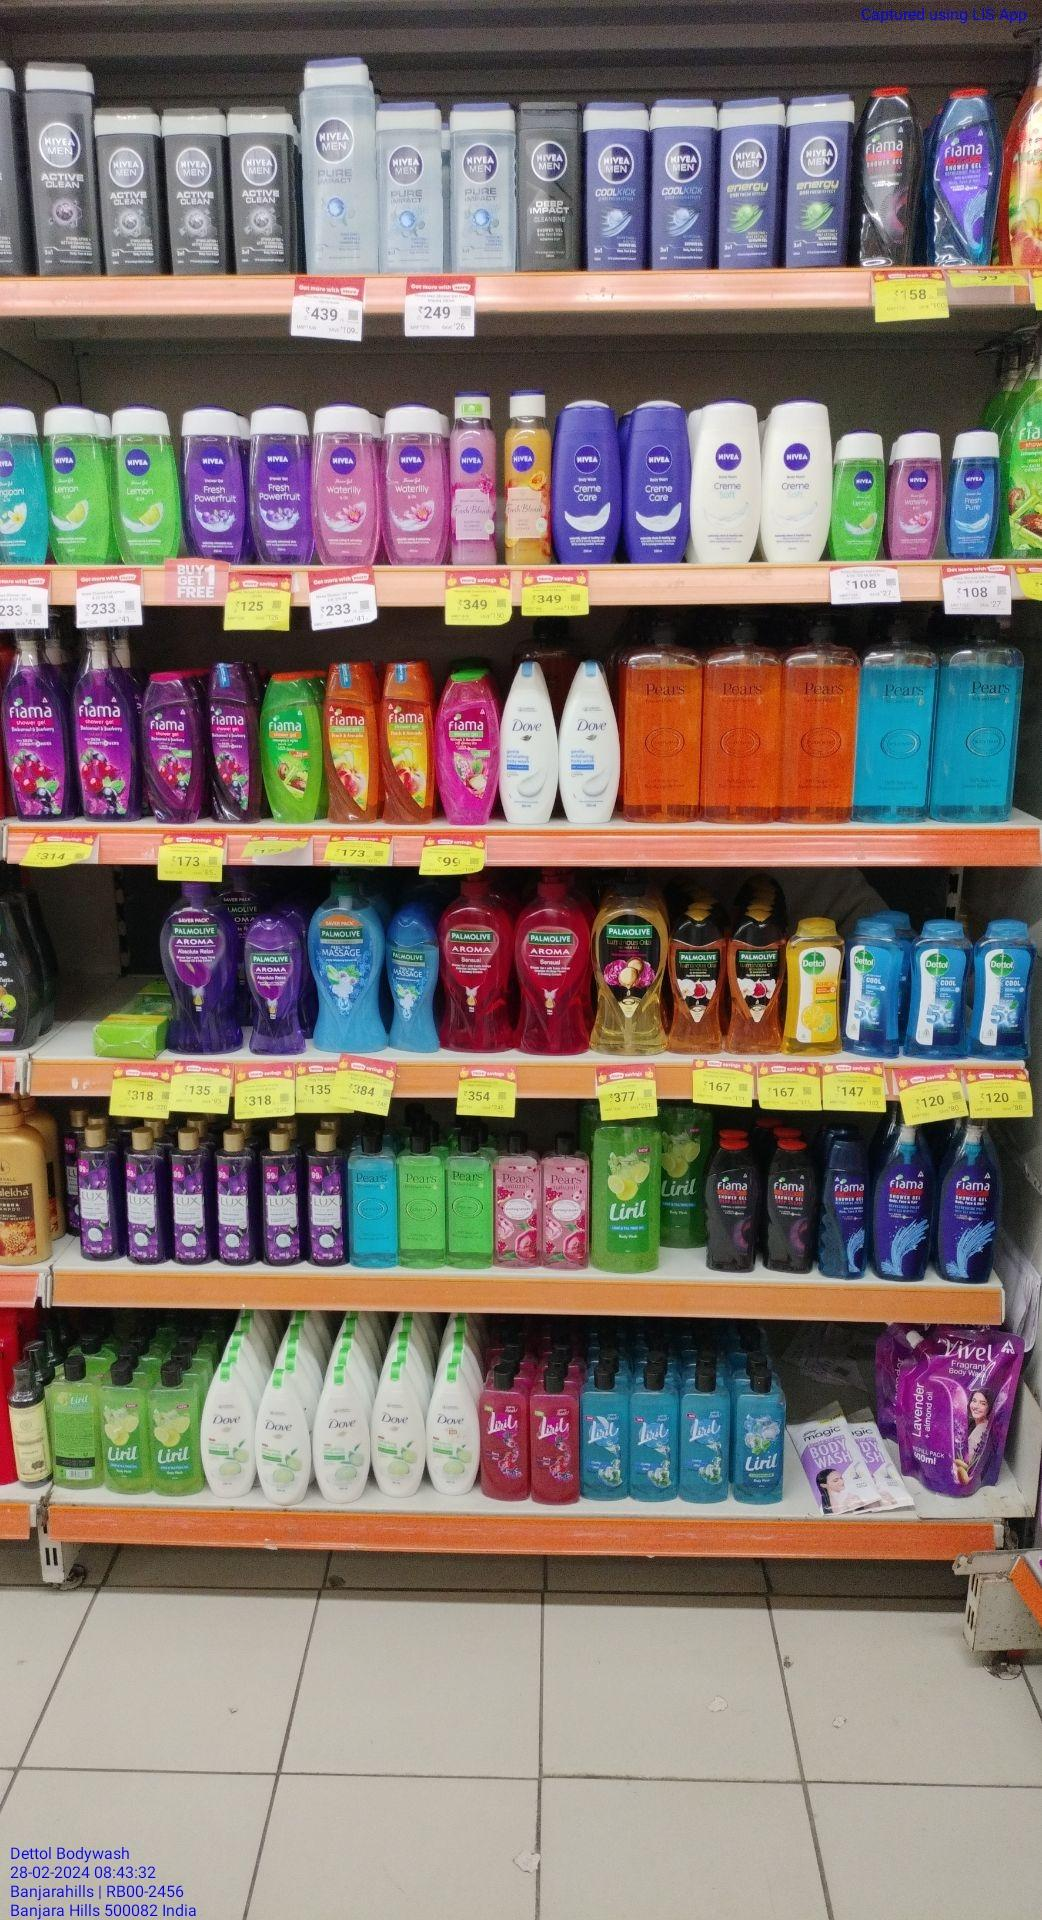Dettol_Bodywash_Cool: (975, 923, 1038, 1061), (911, 921, 966, 1063), (847, 920, 901, 1059)
Dettol_Bodywash_Refresh: (787, 912, 839, 1057)
Dove_Gentle_Exfoliating_Body_Wash_250ML: (499, 659, 556, 826), (565, 658, 617, 829)
Dove_Refreshing_Body_Wash_250ML: (312, 1377, 367, 1507), (371, 1368, 423, 1501), (257, 1377, 311, 1506), (203, 1366, 253, 1498), (430, 1370, 477, 1499)
Fiama_Shower_Gel_Lemongrass_and_Jojoba_250ML: (262, 673, 317, 827)
Fiama_Shower_Gel_Patchouli_and_Macadamia_250ML: (440, 669, 494, 825)
Fiama_Shower_Gel_Peach_and_Avocado_250ML: (325, 659, 379, 827), (382, 662, 435, 829)
Liril_Cooling_Mint_Body_Wash_250ML: (579, 1368, 628, 1504), (737, 1372, 785, 1506), (681, 1371, 728, 1506), (634, 1366, 676, 1502)
Liril_Lime_and_Tea_Tree_Oil_Body_Wash_250ML: (154, 1366, 200, 1498), (101, 1367, 149, 1494)
Lux_Black_Orchid_Scent_and_Juniper_Oil_Body_Wash_245ML: (171, 1130, 213, 1267), (77, 1126, 119, 1261), (260, 1129, 300, 1266), (123, 1129, 164, 1261), (305, 1130, 344, 1266), (216, 1133, 254, 1265)
Nivea_Creme_Care_Body_Wash_250ML: (557, 398, 621, 568), (626, 400, 687, 566)
Nivea_Creme_Soft_Body_Wash_250ML: (762, 395, 832, 569), (698, 391, 757, 567)
Nivea_Shower_Gel_Frangipani_and_Oil_250ML: (0, 399, 46, 569)
Nivea_Shower_Gel_Fresh_Powerfruit_250ML: (181, 400, 245, 566), (250, 404, 307, 559)
Nivea_Shower_Gel_Lemon_and_Oil_250ML: (112, 400, 177, 566), (49, 400, 110, 569)
Nivea_Shower_Gel_Waterlily_and_Oil_250ML: (312, 400, 380, 567), (385, 400, 448, 567)
Palmolive_Aroma_Moments_Feel_The_Massage_Shower_Gel_250ML: (386, 907, 440, 1054)
Palmolive_Aroma_Relax_250ML: (245, 918, 307, 1058)
Palmolive_Luminous_Oils_With_White_Orchid_Shower_Gel_250ML: (670, 909, 725, 1057), (730, 903, 780, 1058)
Pears_Pure_Glycerin_and_Lemon_Flower_Extracts_Body_Wash_250ML: (448, 1135, 495, 1270), (399, 1139, 443, 1270)
Pears_Pure_Glycerin_and_Mint_Extracts_Body_Wash_250ML: (349, 1139, 395, 1268)
